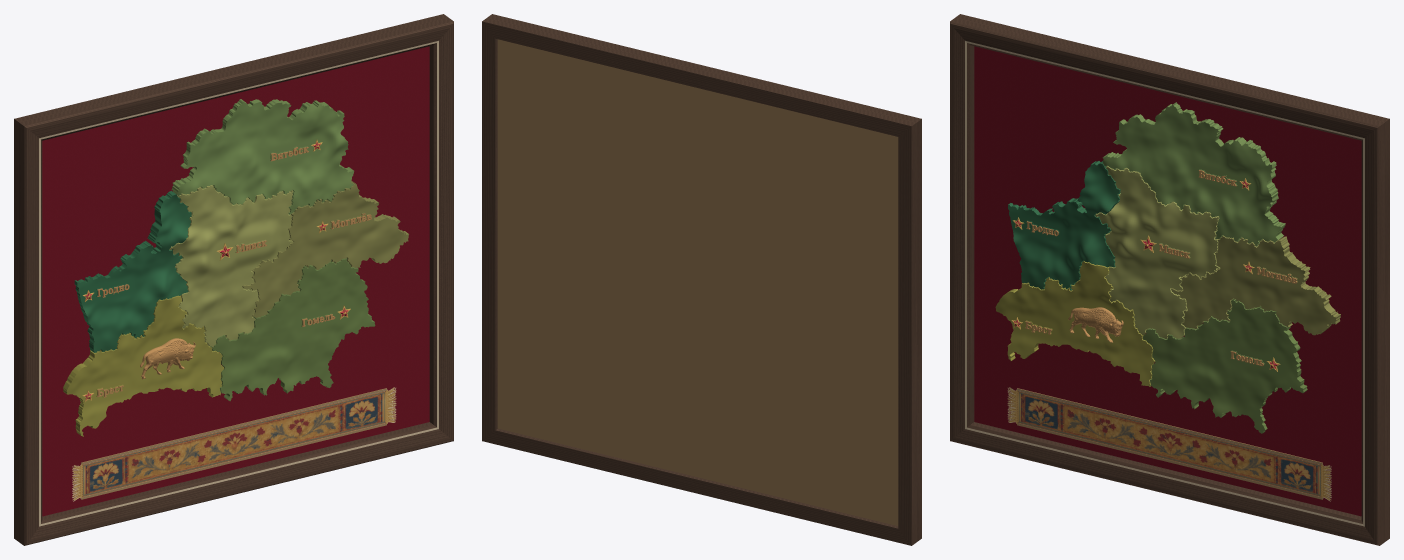
File: panel.glb
3 renders of one model, left to right at view 1: azimuth 30°, elevation 25°; view 2: azimuth 150°, elevation 25°; view 3: azimuth 330°, elevation 25°, orthographic.
Parts seen in each view (by area): view 1: Велюр, Рельеф · Витебская область, Верхняя рейка, Орнаментальная лента, Рельеф · Минская область, Рельеф · Гомельская область, Левая рейка, Нижняя рейка, Правая рейка, Рельеф · Брестская область, Рельеф · Могилёвская область, Рельеф · Гродненская область (+1 smaller); view 2: Задник · фанера 420 × 390 × 6, Верхняя рейка, Левая рейка, Нижняя рейка, Правая рейка; view 3: Велюр, Рельеф · Витебская область, Верхняя рейка, Орнаментальная лента, Рельеф · Гомельская область, Рельеф · Минская область, Правая рейка, Нижняя рейка, Левая рейка, Рельеф · Могилёвская область, Рельеф · Брестская область, Рельеф · Гродненская область (+1 smaller).
Part boxes in pixels (box(x1,y1,x2,y2)): Велюр: box(42, 46, 429, 516); Рельеф · Витебская область: box(171, 99, 354, 214); Верхняя рейка: box(14, 14, 453, 140); Орнаментальная лента: box(72, 387, 396, 501); Рельеф · Минская область: box(169, 185, 293, 346); Рельеф · Гомельская область: box(210, 258, 375, 401); Левая рейка: box(14, 119, 42, 545); Нижняя рейка: box(25, 422, 453, 545); Правая рейка: box(429, 22, 453, 440); Рельеф · Брестская область: box(63, 295, 224, 436); Рельеф · Могилёвская область: box(242, 180, 408, 317); Рельеф · Гродненская область: box(74, 190, 191, 352); Задник · фанера 420 × 390 × 6: box(497, 39, 898, 525); Верхняя рейка: box(482, 14, 921, 136); Левая рейка: box(898, 119, 921, 545); Нижняя рейка: box(482, 428, 911, 545); Правая рейка: box(482, 22, 497, 440); Велюр: box(974, 46, 1361, 516); Рельеф · Витебская область: box(1102, 102, 1285, 246); Верхняя рейка: box(950, 14, 1389, 140); Орнаментальная лента: box(1007, 387, 1331, 501); Рельеф · Гомельская область: box(1142, 298, 1307, 433); Рельеф · Минская область: box(1095, 166, 1219, 338); Правая рейка: box(1361, 119, 1389, 545); Нижняя рейка: box(950, 422, 1378, 545); Левая рейка: box(950, 22, 974, 440); Рельеф · Могилёвская область: box(1171, 235, 1340, 335); Рельеф · Брестская область: box(995, 261, 1155, 386); Рельеф · Гродненская область: box(1008, 161, 1120, 290).
Bounding box in the file's own units: 0.45 × 0.42 × 0.0236.
15 materials, 3 textured.
